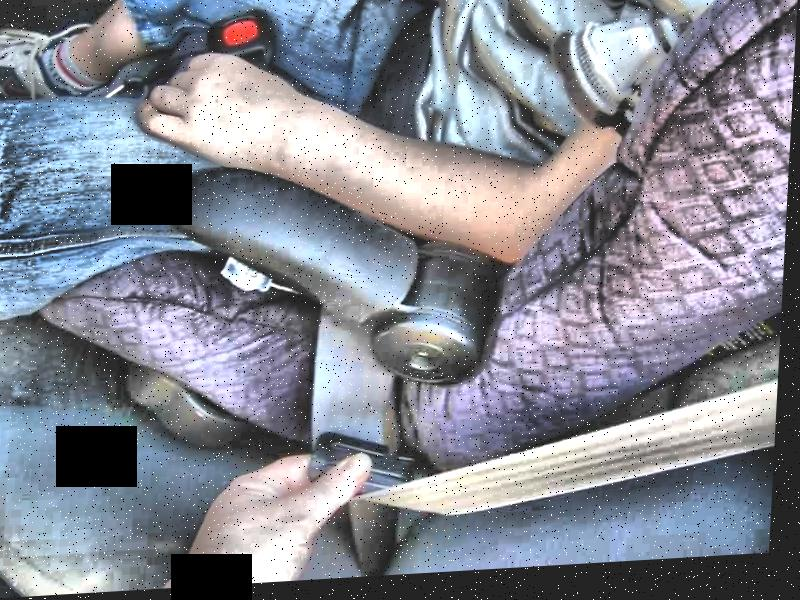seatbelt: (254, 397, 767, 552)
